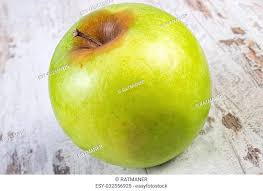damaged_apple: (48, 8, 215, 163)
